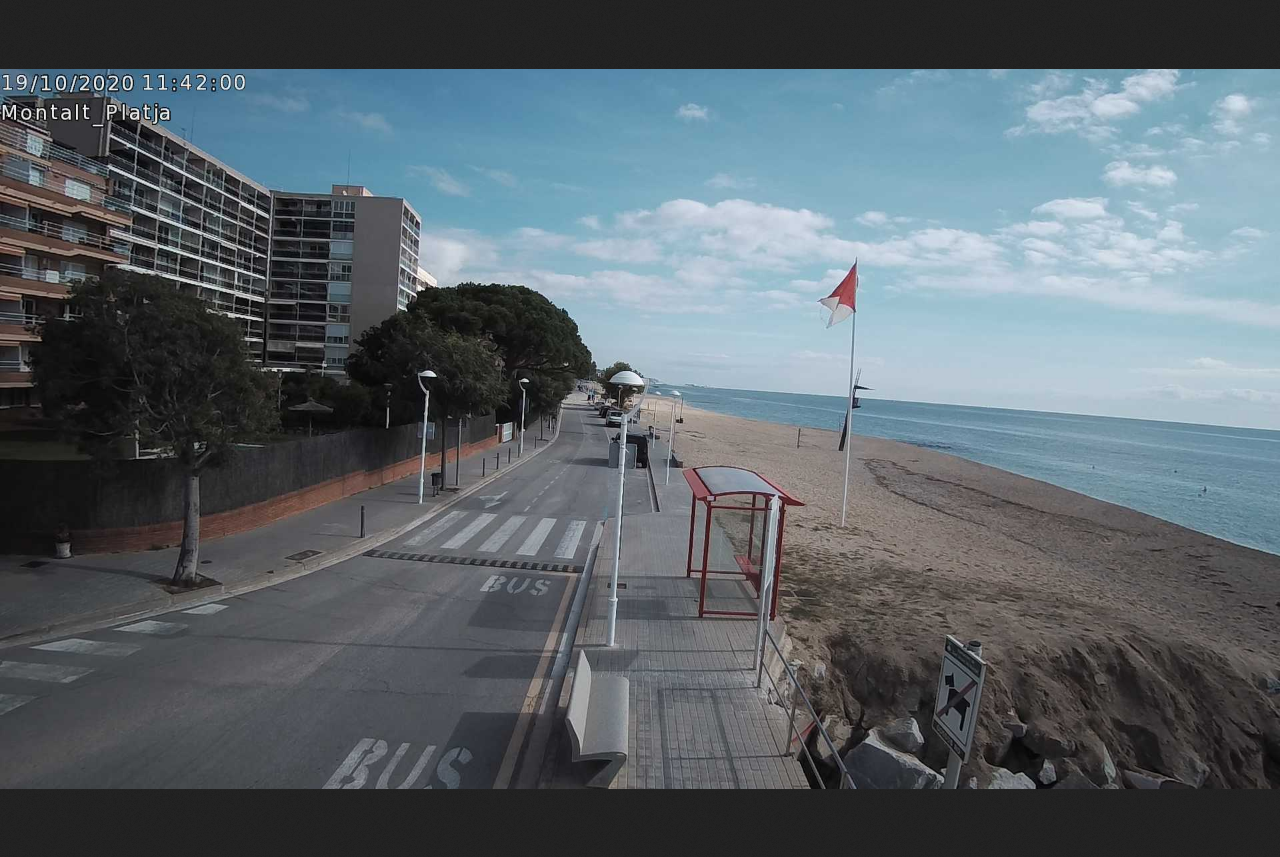maybe: (817, 261, 859, 329)
